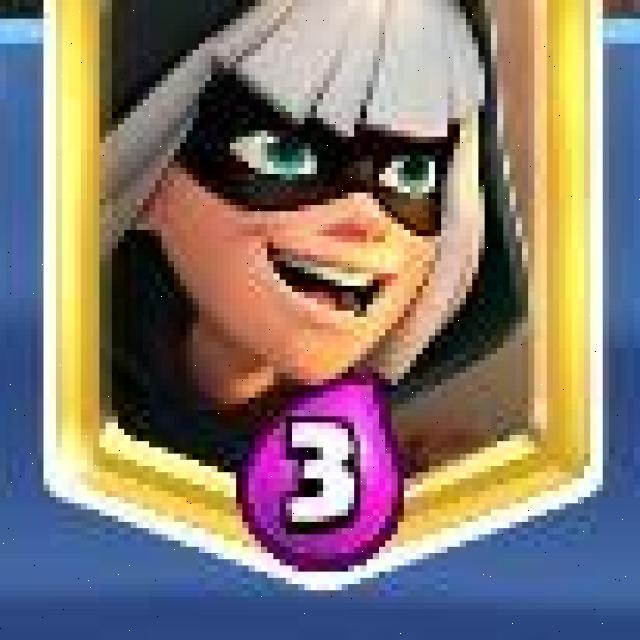Bandit: (42, 0, 613, 600)
